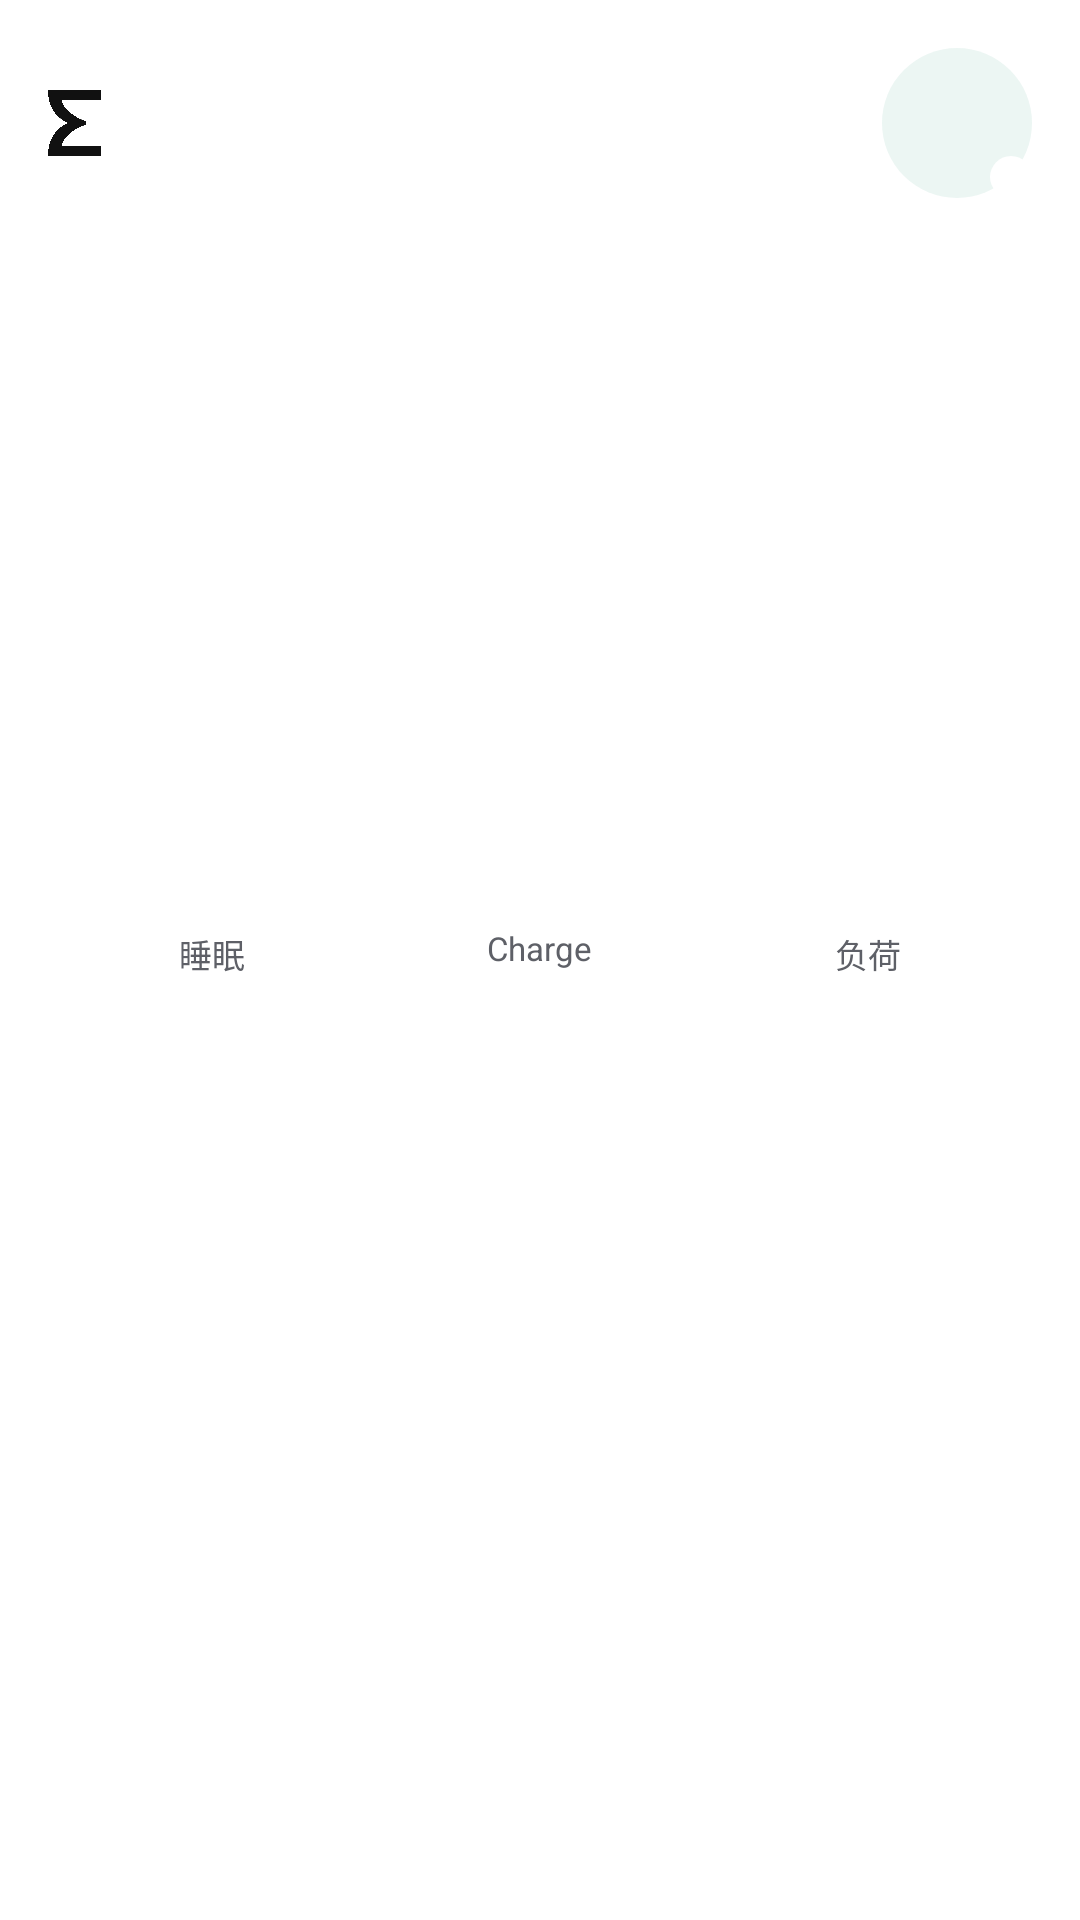

Screen size 1080x1920. Icon name, then its center in pixels as point (x, y):
brand mark: point (74, 123)
